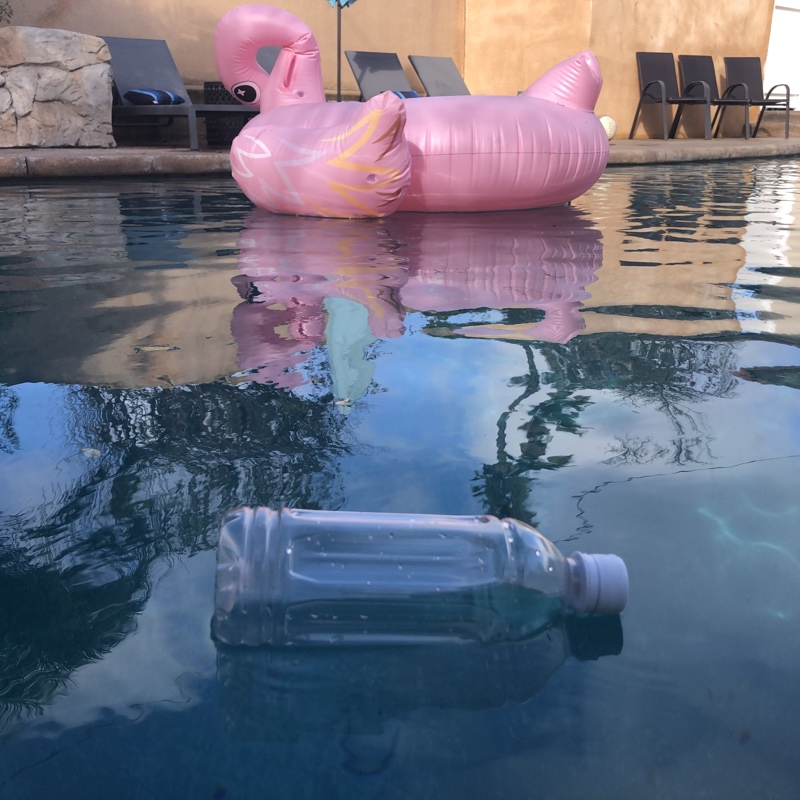Plastic Bottle: (205, 499, 635, 660)
